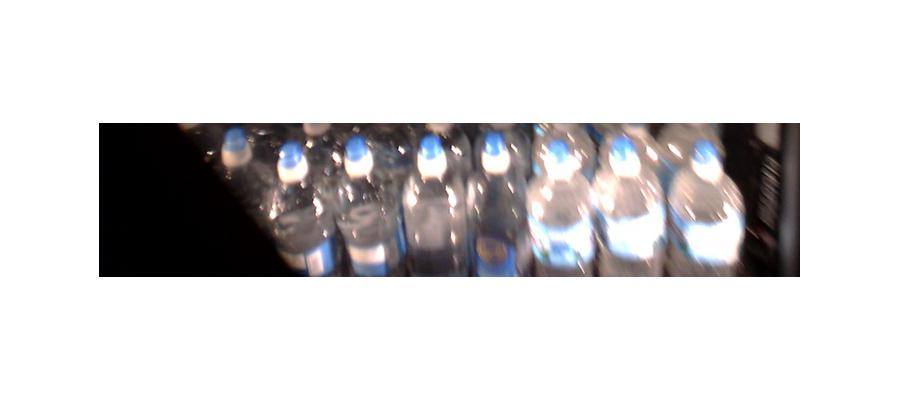bottle: (666, 133, 744, 275), (594, 128, 665, 276), (464, 125, 528, 279), (329, 135, 399, 273), (397, 134, 464, 277), (530, 127, 593, 278), (267, 137, 330, 269)
